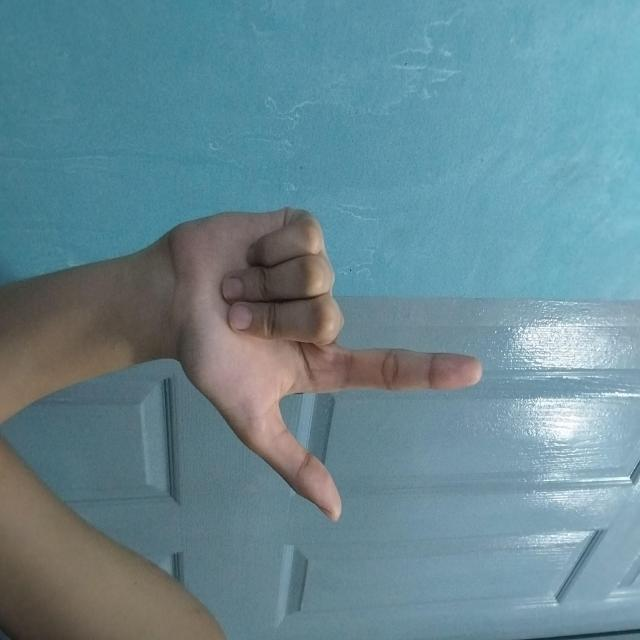L: (208, 157, 518, 466)
